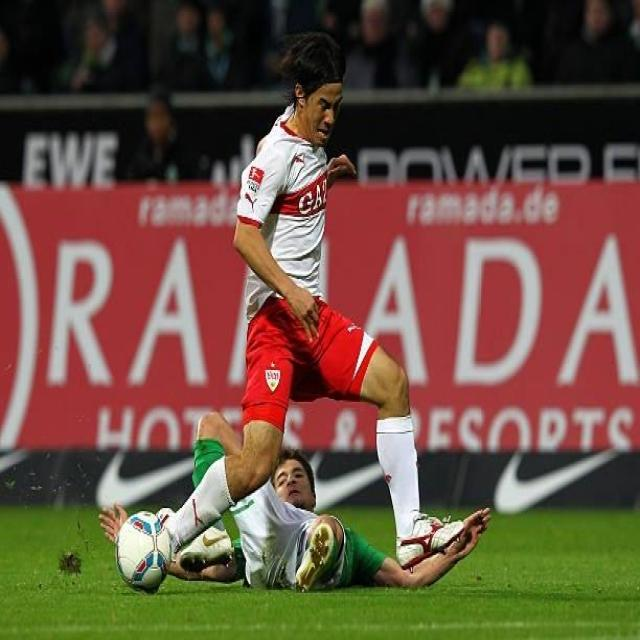ball: (113, 509, 177, 604)
player: (176, 73, 479, 567), (175, 412, 463, 600)
